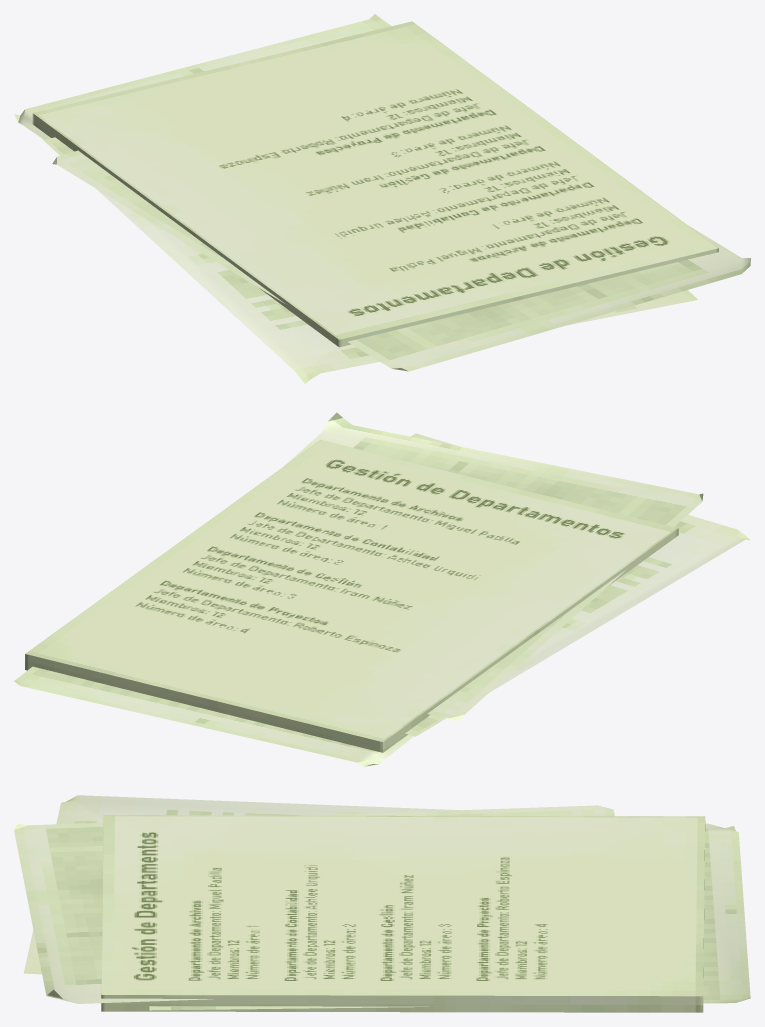
The model's file is hojas.glb.
3 renders of one model, top to bottom at view 1: azimuth 30°, elevation 25°; view 2: azimuth 150°, elevation 25°; view 3: azimuth 270°, elevation 25°, orthographic. The views are drawn at different scales.
Parts seen in each view (by area): view 1: Hoja; view 2: Hoja; view 3: Hoja.
Boxes of the visible parts, box(x1,y1,x2,y2) form: Hoja: box(14, 14, 750, 383); Hoja: box(14, 412, 750, 766); Hoja: box(14, 795, 750, 1012).
Size of the model in its own units: 0.4118 by 0.0232 by 0.6023.
1 material, 1 textured.
